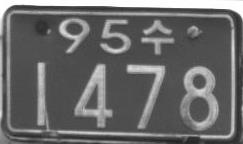1: (24, 62, 61, 125)
4: (74, 63, 113, 128)
5: (99, 18, 131, 54)
7: (126, 63, 165, 130)
8: (179, 65, 219, 132)
9: (59, 16, 90, 54)
수: (141, 19, 173, 54)
